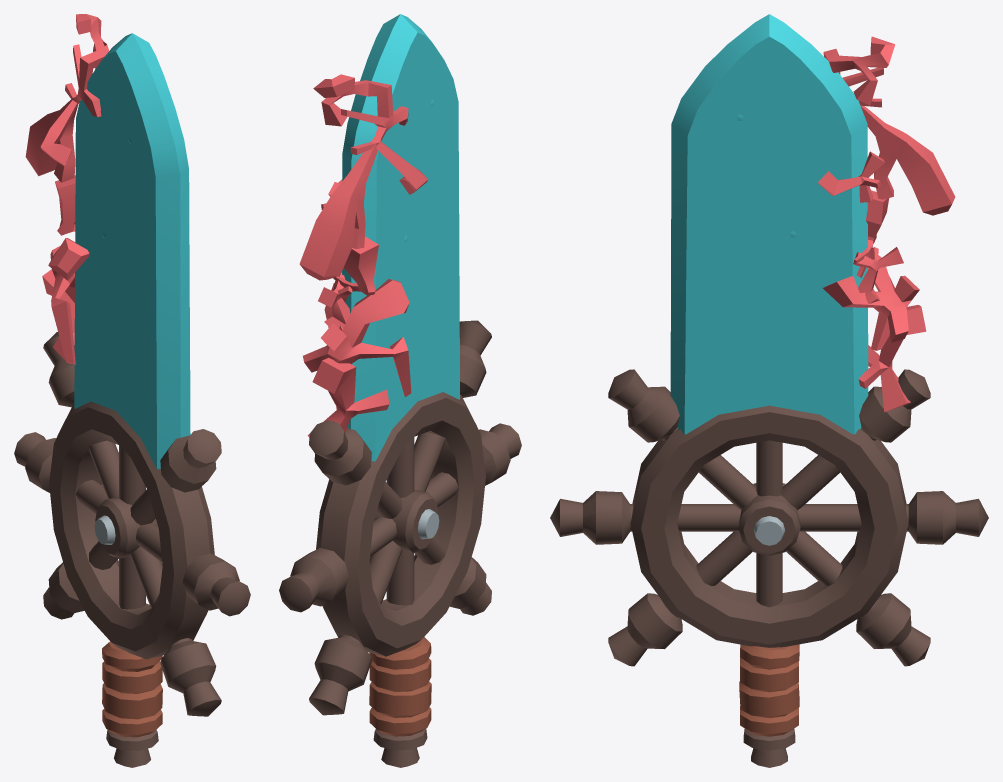
The model's file is coral_sword.gltf.glb.
3 renders of one model, left to right at view 1: azimuth 30°, elevation 25°; view 2: azimuth 150°, elevation 25°; view 3: azimuth 270°, elevation 25°, orthographic. The views are drawn at different scales.
Parts seen in each view (by area): view 1: coral_sword; view 2: coral_sword; view 3: coral_sword.
Boxes of the visible parts, left/top/right/bottom form: coral_sword: left=14, top=14, right=250, bottom=767; coral_sword: left=279, top=14, right=521, bottom=767; coral_sword: left=550, top=14, right=988, bottom=767.
Bounding box in the file's own units: 0.2686 × 2 × 1.06.
